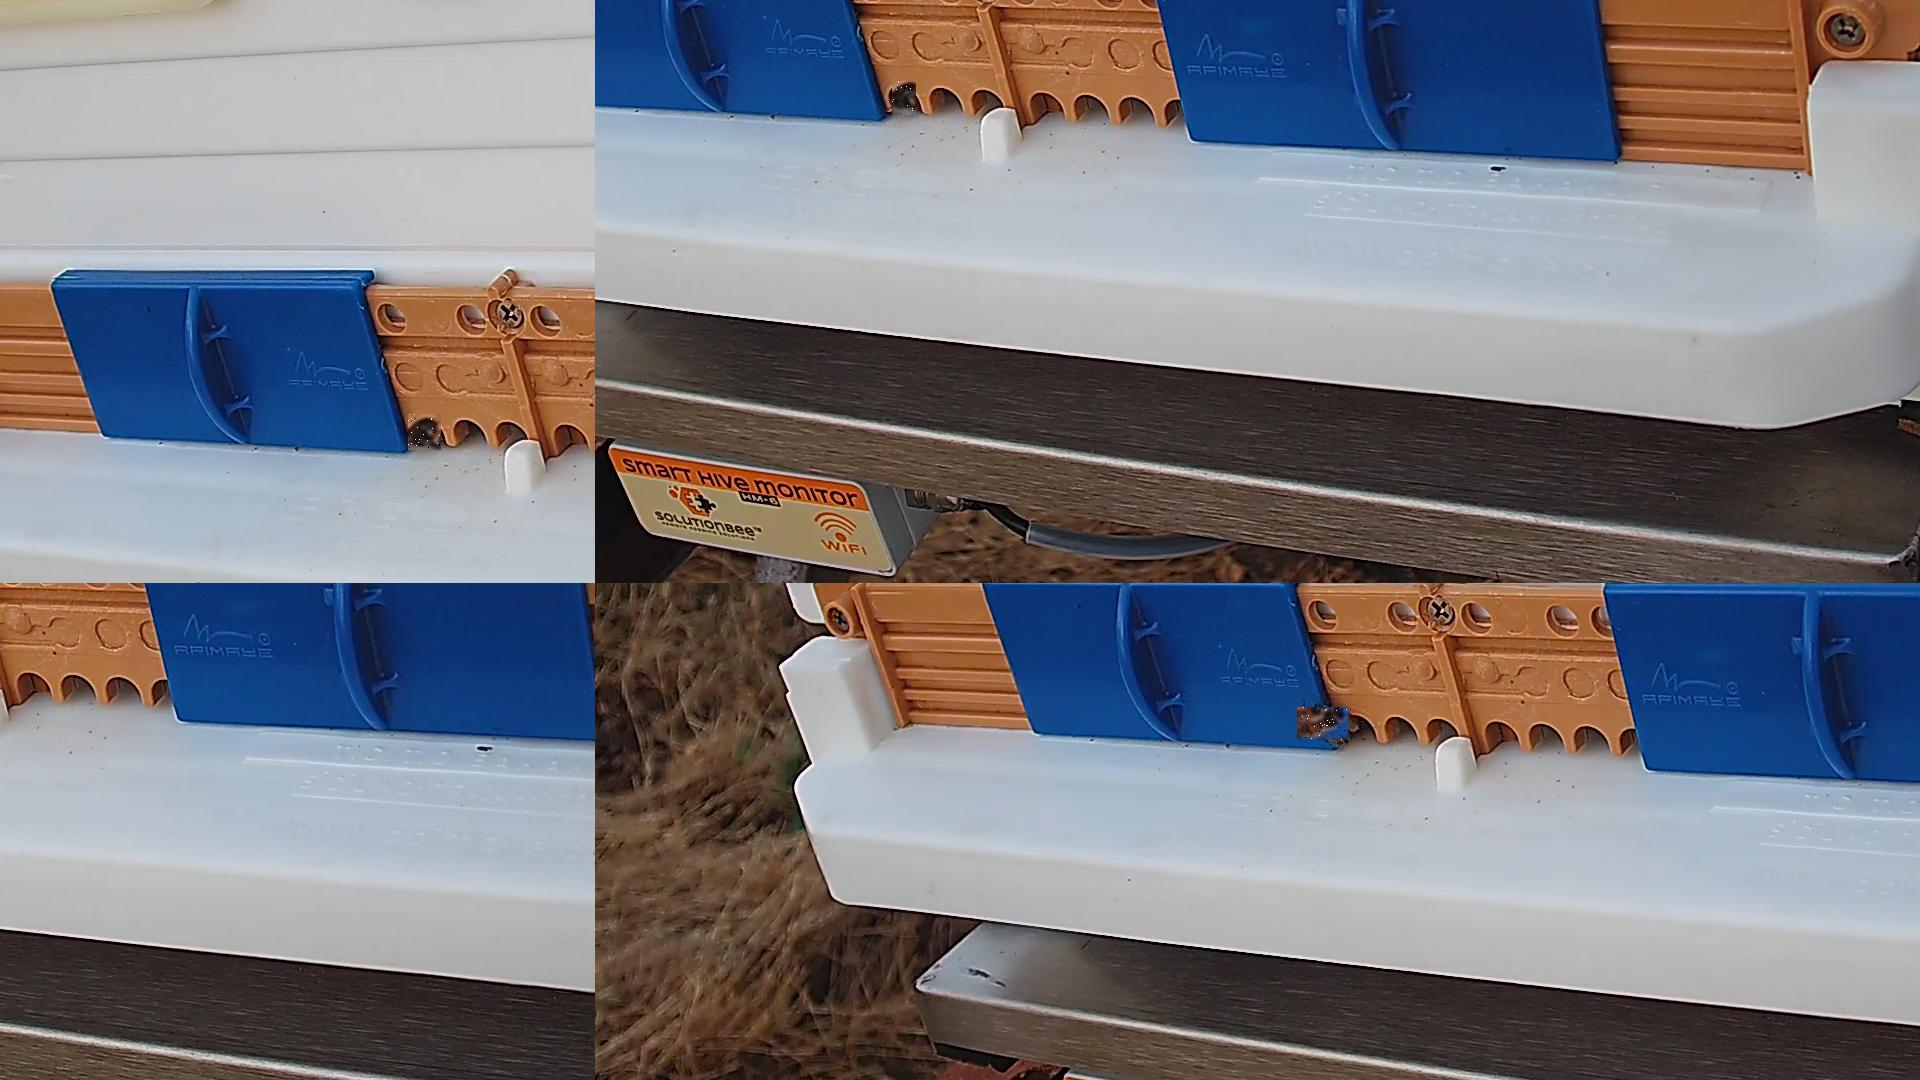bee: (1298, 708, 1353, 742), (409, 414, 442, 451), (893, 82, 918, 116)
